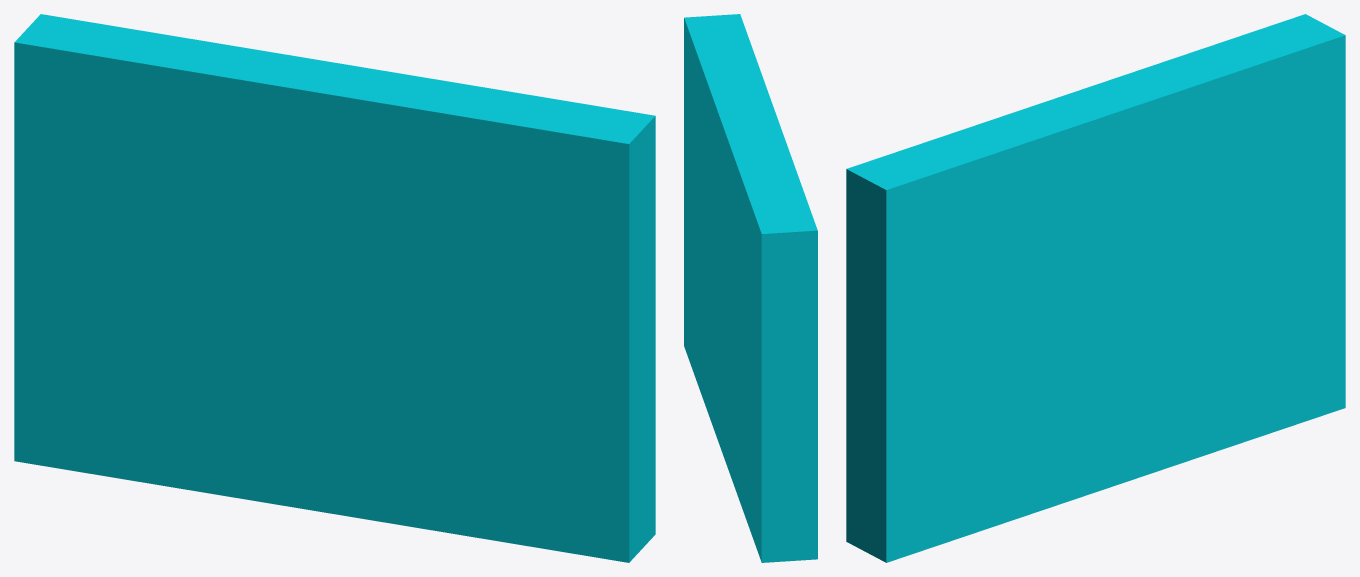
File: tagblue2_3.glb
3 renders of one model, left to right at view 1: azimuth 30°, elevation 25°; view 2: azimuth 150°, elevation 25°; view 3: azimuth 270°, elevation 25°, orthographic. The views are drawn at different scales.
Visible parts, largest first — view 1: Plane.026; view 2: Plane.026; view 3: Plane.026.
Boxes of the visible parts, box(x1,y1,x2,y2) form: Plane.026: box(14, 14, 655, 562); Plane.026: box(684, 14, 817, 562); Plane.026: box(846, 14, 1345, 562).
Size of the model in its own units: 0.1419 by 0.14 by 0.1699.
